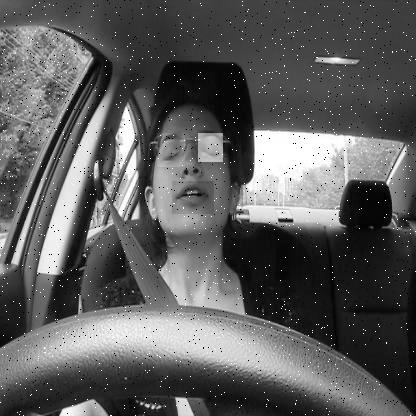seatbelt: (113, 90, 256, 416)
